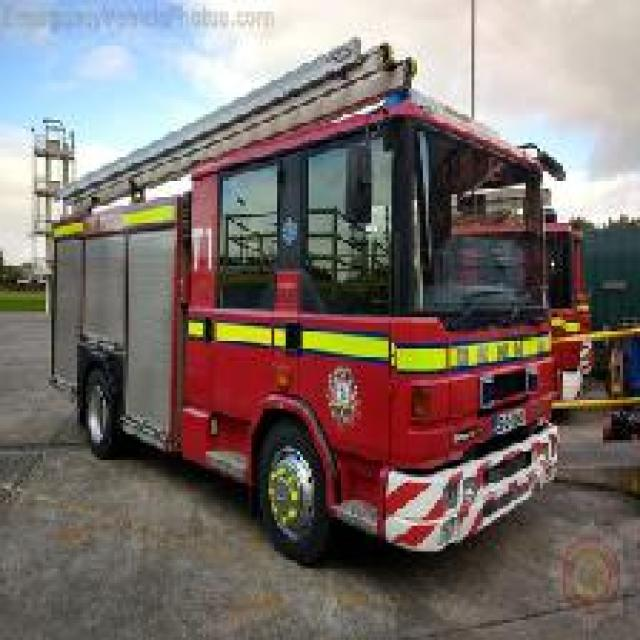Fire-truck: (43, 34, 577, 563)
